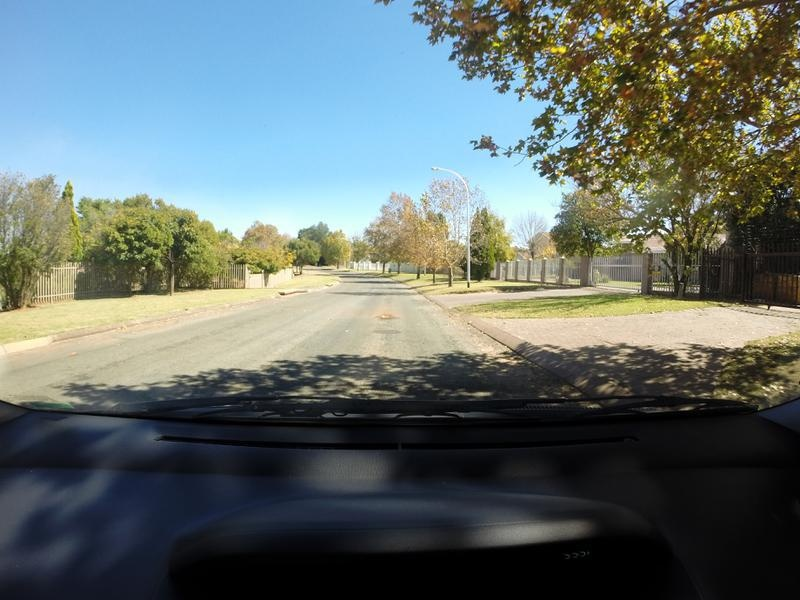pothole: (366, 305, 402, 328)
